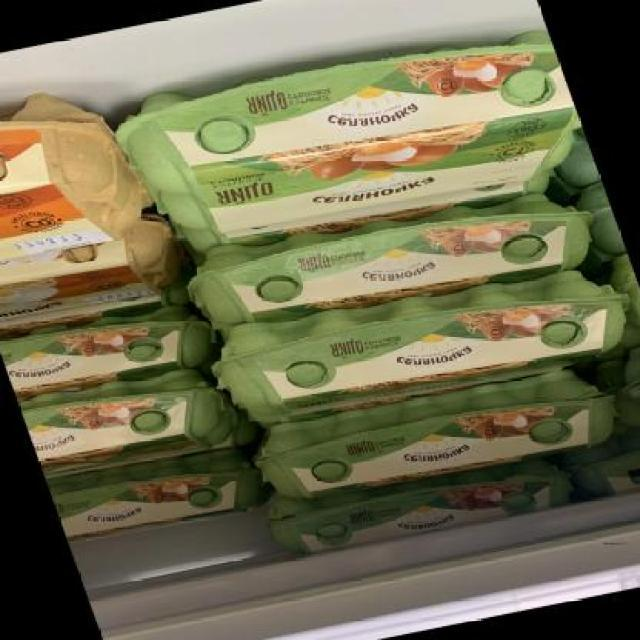egg: (100, 20, 596, 254), (195, 252, 640, 434), (172, 177, 610, 337), (238, 356, 634, 509), (262, 451, 581, 564), (0, 81, 156, 270), (18, 361, 244, 481), (0, 296, 226, 402), (46, 443, 268, 549), (0, 228, 191, 327), (568, 423, 640, 502), (617, 332, 640, 430)
